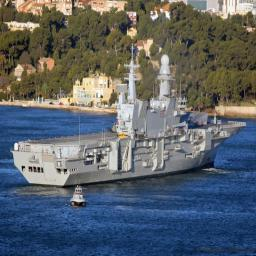Portanaves: (12, 45, 249, 190)
